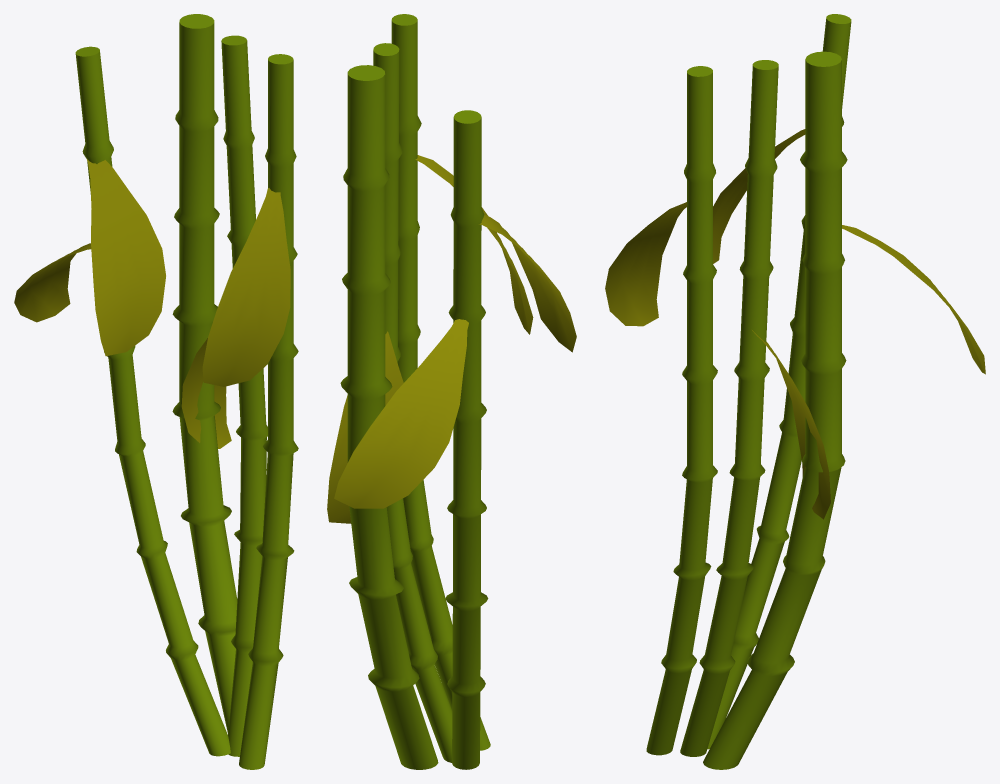
Rendered from K_dendorobium.fbx.
The picture shows the model from 3 angles, left to right: view 1: azimuth 30°, elevation 25°; view 2: azimuth 150°, elevation 25°; view 3: azimuth 270°, elevation 25°; orthographic projection. The views are drawn at different scales.
Parts seen in each view (by area): view 1: pCylinder1, pCylinder2, pCylinder4, pCylinder3, pPlane1, pPlane3, pPlane2, pPlane4; view 2: pCylinder1, pCylinder3, pPlane2, pCylinder2, pCylinder4, pPlane1, pPlane4, pPlane3; view 3: pCylinder1, pCylinder4, pCylinder2, pCylinder3, pPlane3, pPlane4, pPlane1, pPlane2.
Part boxes in pixels (<box>): pCylinder1: <box>172,14,237,733</box>; pCylinder2: <box>239,54,298,769</box>; pCylinder4: <box>221,35,267,756</box>; pCylinder3: <box>75,46,230,756</box>; pPlane1: <box>87,159,165,356</box>; pPlane3: <box>202,188,290,386</box>; pPlane2: <box>14,243,91,322</box>; pPlane4: <box>181,338,231,448</box>; pCylinder1: <box>340,65,438,769</box>; pCylinder3: <box>445,110,488,769</box>; pPlane2: <box>334,319,468,508</box>; pCylinder2: <box>391,14,490,750</box>; pCylinder4: <box>373,43,452,762</box>; pPlane1: <box>479,214,576,352</box>; pPlane4: <box>327,331,403,523</box>; pPlane3: <box>415,155,533,334</box>; pCylinder1: <box>703,51,847,769</box>; pCylinder4: <box>680,60,778,756</box>; pCylinder2: <box>646,66,717,755</box>; pCylinder3: <box>707,14,851,749</box>; pPlane3: <box>605,202,686,326</box>; pPlane4: <box>752,330,830,519</box>; pPlane1: <box>713,129,805,263</box>; pPlane2: <box>842,225,985,374</box>.
Size of the model in its own units: 22.23 by 78.35 by 38.43.
